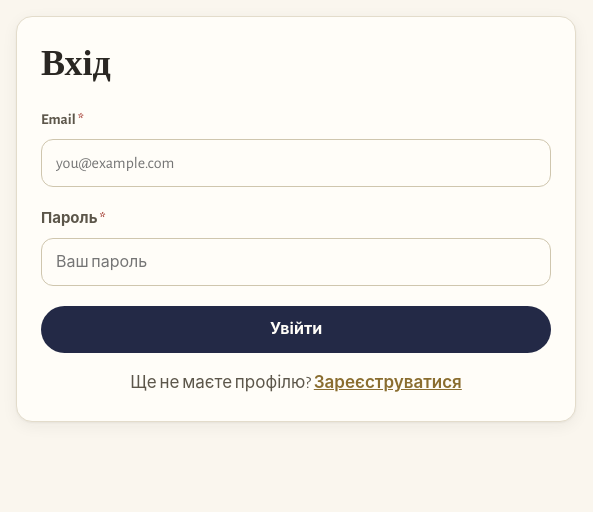
Scenario: LoginPage › shows validation error on empty submit
This screenshot has width=593, height=512.
Click the button "Увійти" at (296, 330), box [41,306,551,353]
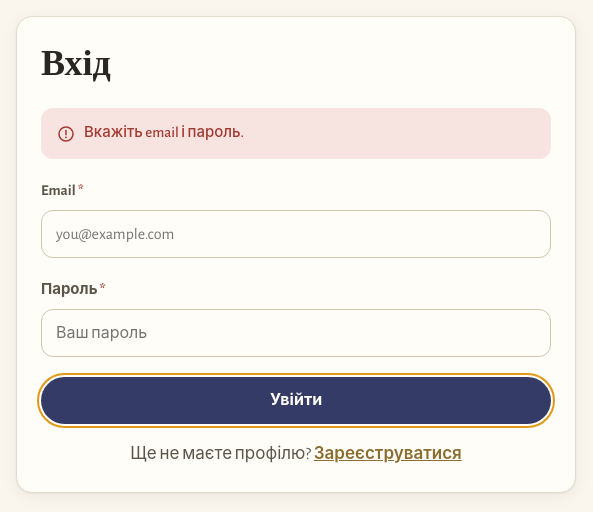
expect the text "Вкажіть email і пароль." is shown: met, box [84,121,244,146]
